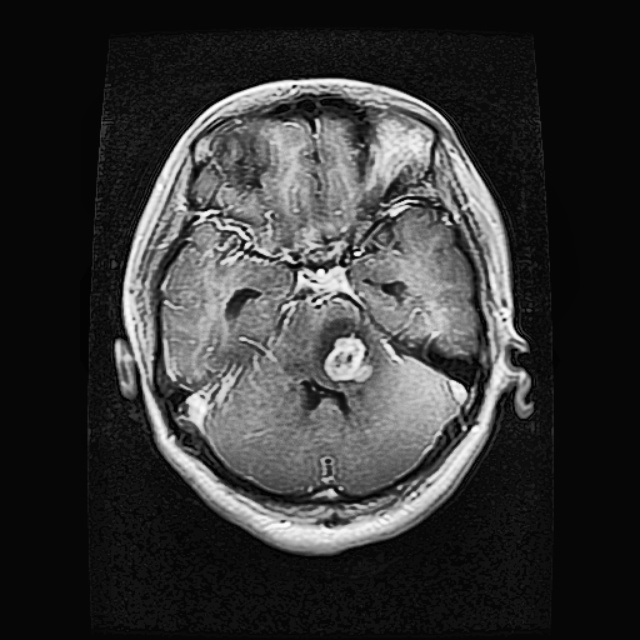Glioma: (323, 332, 370, 384)
